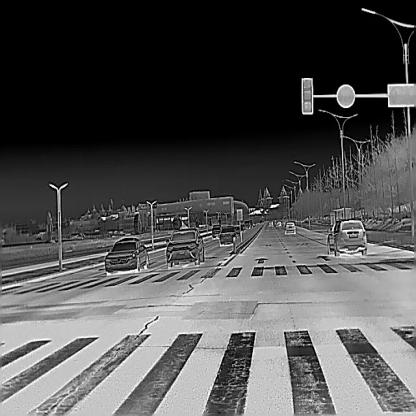car: (104, 236, 148, 273), (326, 218, 368, 256), (165, 228, 204, 266), (219, 226, 235, 245), (230, 225, 243, 238), (211, 224, 222, 239), (284, 220, 295, 233), (276, 220, 282, 226), (268, 220, 273, 227)
